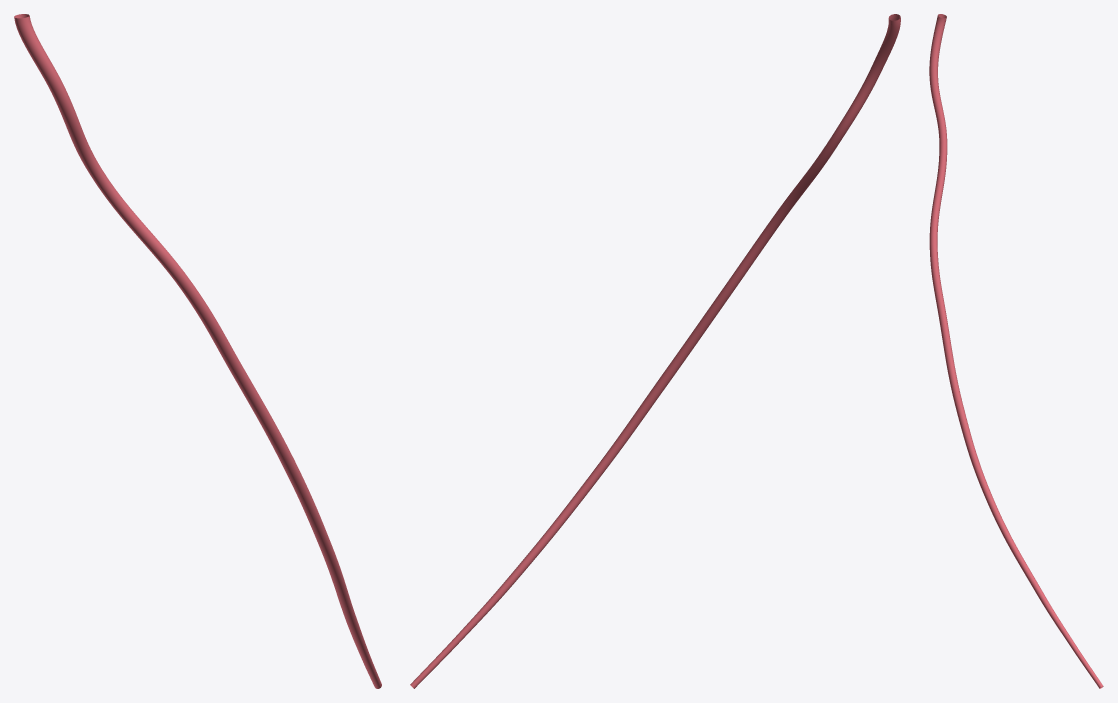
The picture shows the model from 3 angles, left to right: view 1: azimuth 30°, elevation 25°; view 2: azimuth 150°, elevation 25°; view 3: azimuth 270°, elevation 25°; orthographic projection. The views are drawn at different scales.
Parts seen in each view (by area): view 1: ZA_0a091e774ba4b3b3; view 2: ZA_0a091e774ba4b3b3; view 3: ZA_0a091e774ba4b3b3.
Part boxes in pixels (x1,y1,x2,y2): ZA_0a091e774ba4b3b3: [14, 14, 381, 688]; ZA_0a091e774ba4b3b3: [410, 14, 900, 688]; ZA_0a091e774ba4b3b3: [929, 14, 1103, 688].
Size of the model in its own units: 0.0952 by 0.1621 by 0.0482.
